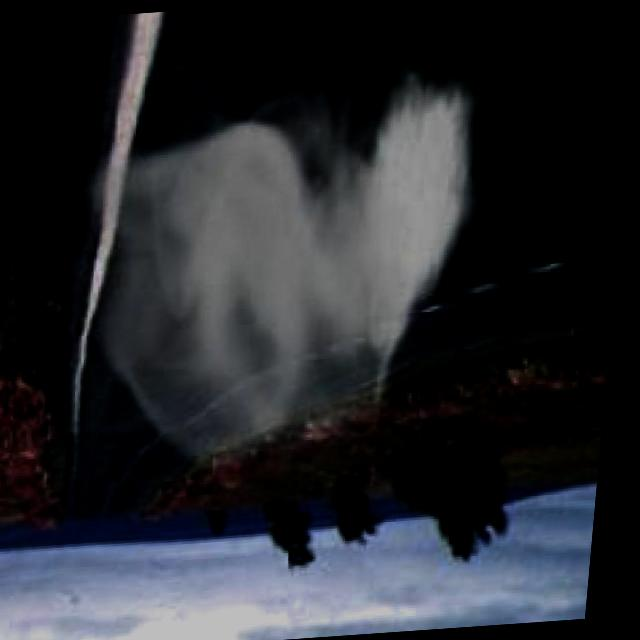no_helmet: (56, 53, 512, 488)
